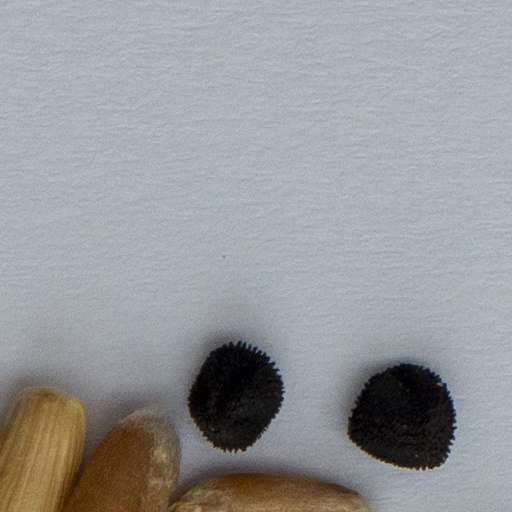Peel-poly: (0, 388, 84, 511)
